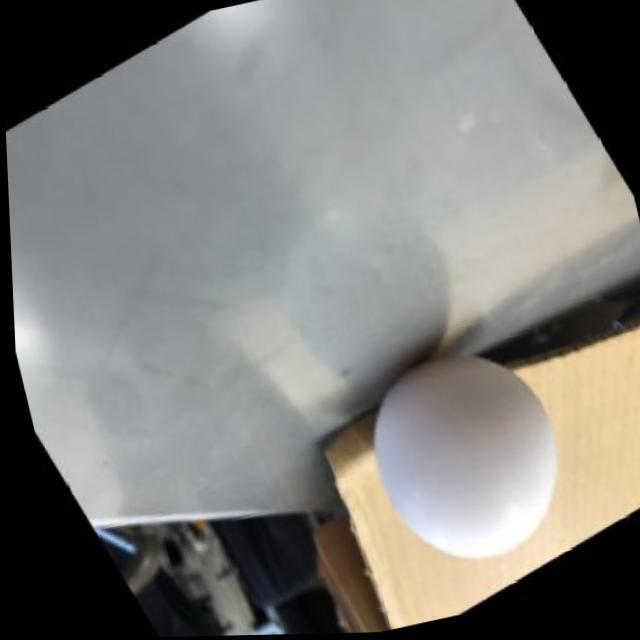egg: (349, 337, 580, 584)
